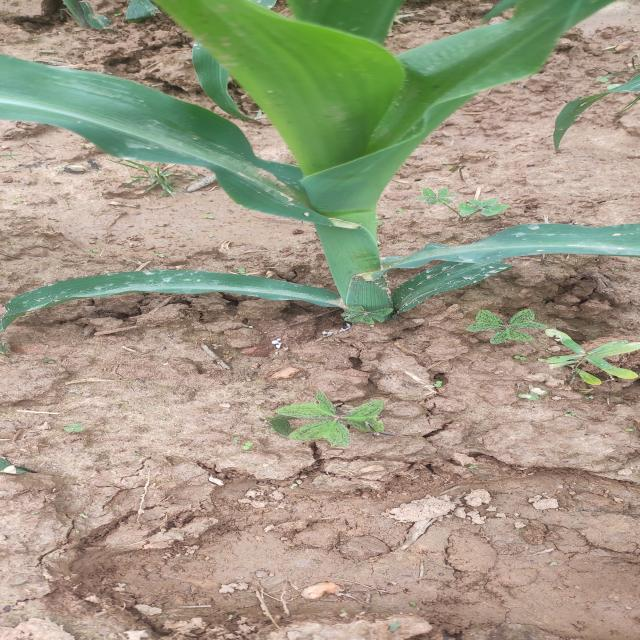maize: (0, 0, 635, 322)
weed: (260, 394, 432, 444), (526, 329, 640, 394), (404, 184, 554, 224), (442, 306, 560, 350)
